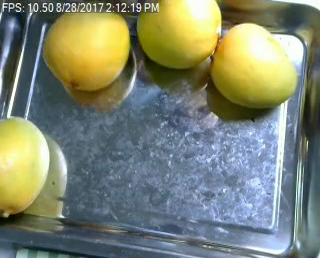Mango: (43, 5, 129, 89), (209, 22, 296, 103), (136, 1, 221, 67), (0, 116, 51, 215)
